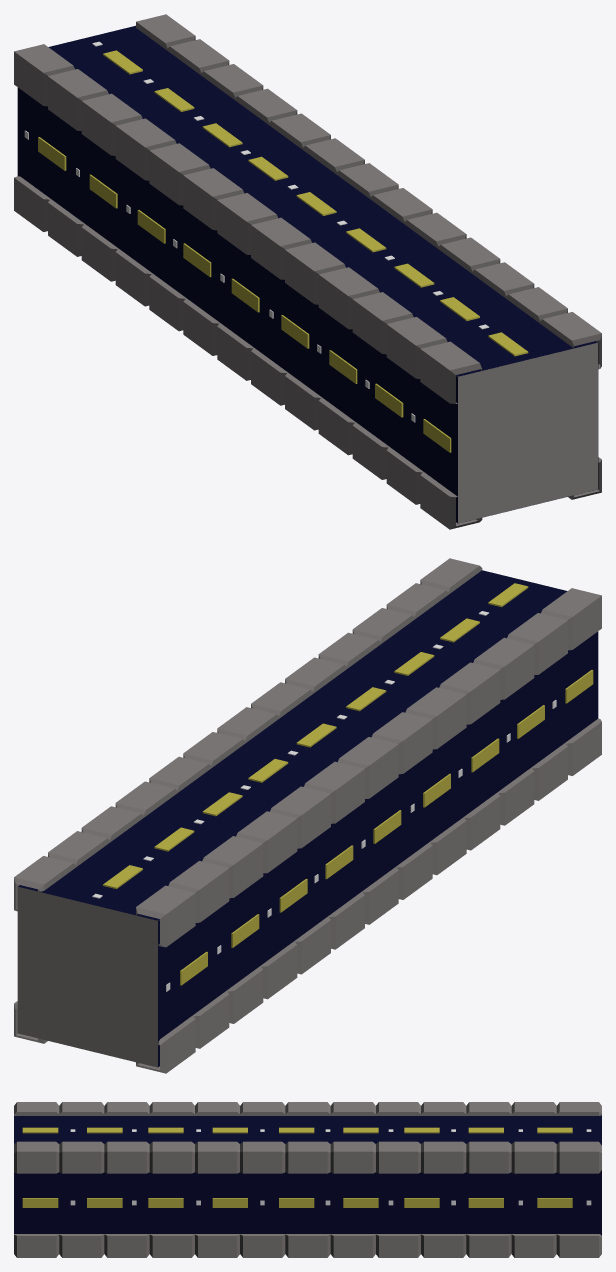
3 views of the same model, one above another, from view 1: azimuth 30°, elevation 25°; view 2: azimuth 150°, elevation 25°; view 3: azimuth 270°, elevation 25° (orthographic). The views are drawn at different scales.
Parts seen in each view (by area): view 1: Cube; view 2: Cube; view 3: Cube.
Part boxes in pixels (bbox=[...]): Cube: bbox=[14, 14, 601, 529]; Cube: bbox=[14, 558, 601, 1073]; Cube: bbox=[14, 1102, 601, 1257].
Bounding box in the file's own units: 435 × 435 × 2178.
